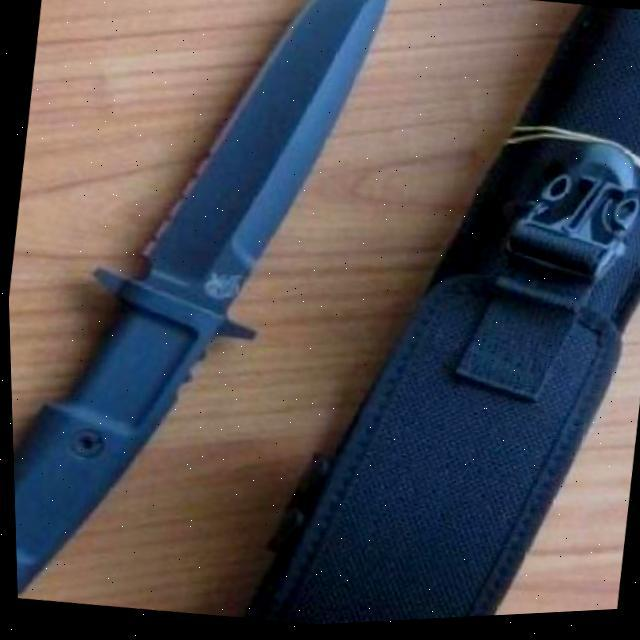knife: (0, 0, 415, 640)
